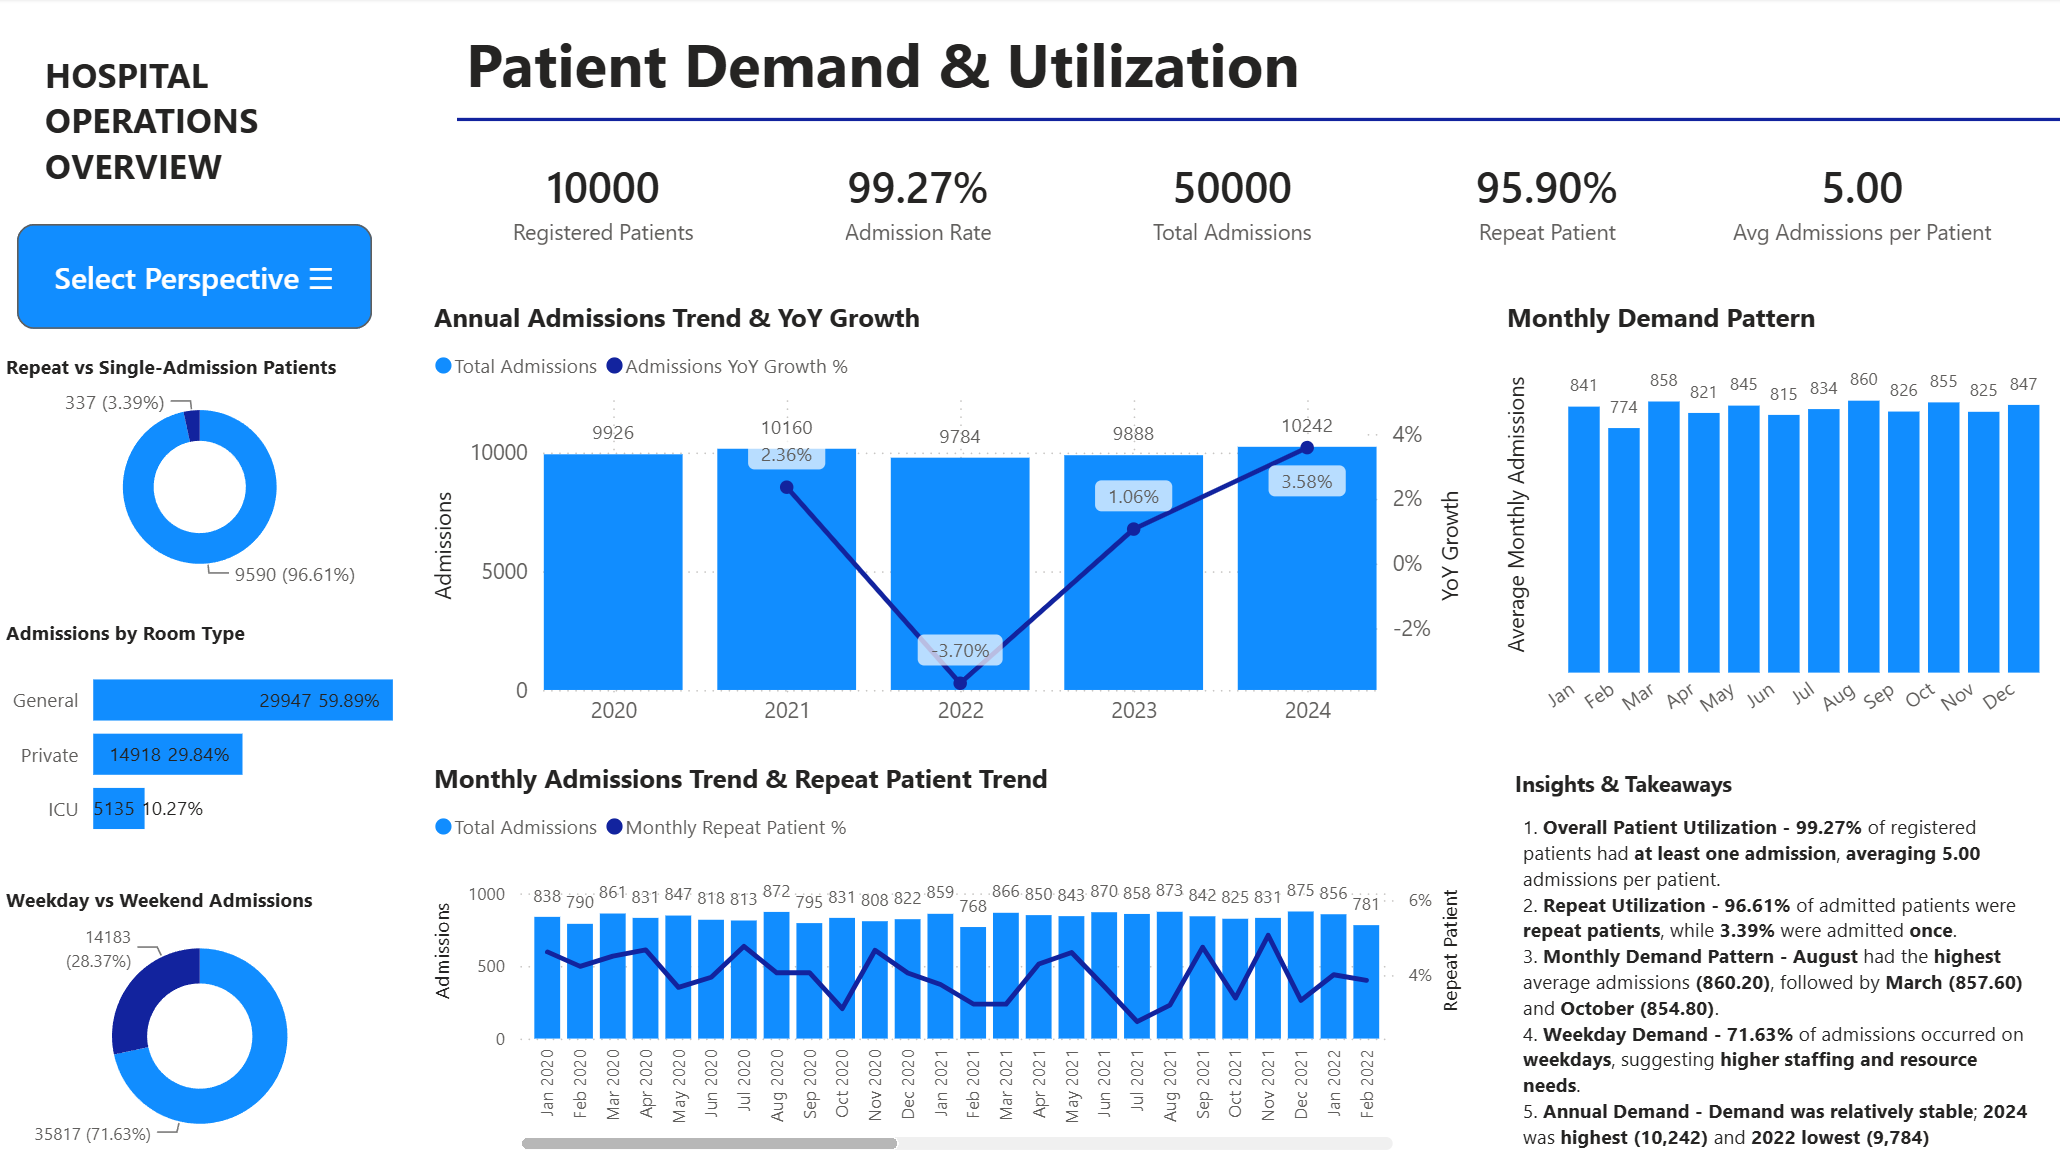

This screenshot's page, from the dashboard's own definition file:
{"tool":"powerbi","page":{"name":"Page 1 - Patient Demand & Utilization","canvas":[1280,720],"ordinal":0},"visuals":[{"type":"shape","title":"Insights Panel","box":[930,472,350.1,248],"z":0},{"type":"shape","title":"Title & KPI Panel","box":[265,0,1000,180],"z":1000},{"type":"shape","title":"Perspective Panel","box":[0,0,250,720],"z":2000},{"type":"textbox","box":[24,28,150,100],"z":3000},{"type":"clusteredBarChart","title":"Admissions by Room Type","fields":{"Category":["Admissions.room_type"],"Y":["Measures (2).Room Type Admissions"]},"box":[0,385,250,150],"z":4000},{"type":"donutChart","title":"Repeat vs Single-Admission Patients","fields":{"Y":["Measures (2).Repeat-Admitted Patients","Measures (2).Single-Admission Patients"]},"box":[0,220,250,150],"z":5000},{"type":"donutChart","title":"Weekday vs Weekend Admissions","fields":{"Category":["Admissions.admission_day_type"],"Y":["Measures (2).Weekday / Weekend Admissions"]},"box":[0,550,250,170],"z":6000},{"type":"cardVisual","fields":{"Data":["Measures (2).Registered Patients"]},"box":[285,80,180,90],"z":7000},{"type":"cardVisual","fields":{"Data":["Measures (2).Admission Rate"]},"box":[480,80,180,90],"z":8000},{"type":"cardVisual","fields":{"Data":["Measures (2).Total Admissions"]},"box":[675,80,180,90],"z":9000},{"type":"cardVisual","fields":{"Data":["Measures (2).Repeat Patient %"]},"box":[870,80,180,90],"z":10000},{"type":"cardVisual","fields":{"Data":["Measures (2).Average Admissions / Patient"]},"box":[1065,80,180,90],"z":11000},{"type":"lineClusteredColumnComboChart","title":"Annual Admissions Trend & YoY Growth","fields":{"Category":["Calendar.year"],"Y":["Measures (2).Total Admissions"],"Y2":["Measures (2).Admissions YoY Growth %"]},"box":[265.2,187.1,650,272.6],"z":12000},{"type":"clusteredColumnChart","title":"Monthly Demand Pattern","fields":{"Category":["Calendar.month_short"],"Y":["Measures (2).Average Monthly Admission Demand"]},"box":[930,187.1,350.1,277.9],"z":13000},{"type":"lineClusteredColumnComboChart","title":"Monthly Admissions Trend & Repeat Patient Trend","fields":{"Category":["Calendar.month_year"],"Y":["Measures (2).Total Admissions"],"Y2":["Measures (2).Monthly Repeat Patient %"]},"box":[265.2,472.8,650,246],"z":14000},{"type":"textbox","box":[935,473,320,27],"z":15000},{"type":"textbox","box":[940,500,330.3,220],"z":16000},{"type":"shape","box":[284.2,70,995.8,10.5],"z":17000},{"type":"textbox","box":[285,10,960,60],"z":18000},{"type":"actionButton","title":"Perspective Button","box":[12,140,220,65],"z":19000}]}

Visuals, with their boxes in screenshot pixels (x1, y1, x2, y2), scaled from the page's 1280x720 canvas onto the 2060x1158 screenshot:
"Insights Panel" shape: region(1497, 759, 2059, 1157)
"Title & KPI Panel" shape: region(426, 0, 2036, 290)
"Perspective Panel" shape: region(0, 0, 402, 1157)
textbox: region(39, 45, 280, 206)
"Admissions by Room Type" clusteredBarChart: region(0, 619, 402, 860)
"Repeat vs Single-Admission Patients" donutChart: region(0, 354, 402, 595)
"Weekday vs Weekend Admissions" donutChart: region(0, 885, 402, 1157)
cardVisual - Measures (2).Registered Patients: region(459, 129, 748, 273)
cardVisual - Measures (2).Admission Rate: region(772, 129, 1062, 273)
cardVisual - Measures (2).Total Admissions: region(1086, 129, 1376, 273)
cardVisual - Measures (2).Repeat Patient %: region(1400, 129, 1690, 273)
cardVisual - Measures (2).Average Admissions / Patient: region(1714, 129, 2004, 273)
"Annual Admissions Trend & YoY Growth" lineClusteredColumnComboChart: region(427, 301, 1473, 739)
"Monthly Demand Pattern" clusteredColumnChart: region(1497, 301, 2059, 748)
"Monthly Admissions Trend & Repeat Patient Trend" lineClusteredColumnComboChart: region(427, 760, 1473, 1156)
textbox: region(1505, 761, 2020, 804)
textbox: region(1513, 804, 2044, 1157)
shape: region(457, 113, 2059, 129)
textbox: region(459, 16, 2004, 113)
"Perspective Button" actionButton: region(19, 225, 373, 330)
